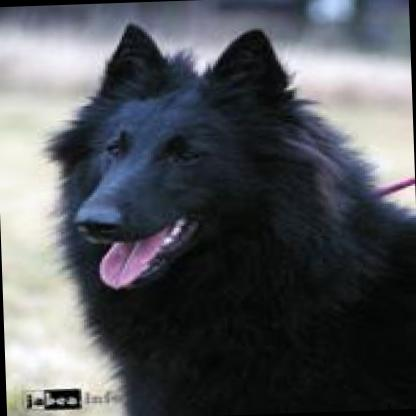groenendael: (41, 10, 416, 416)
